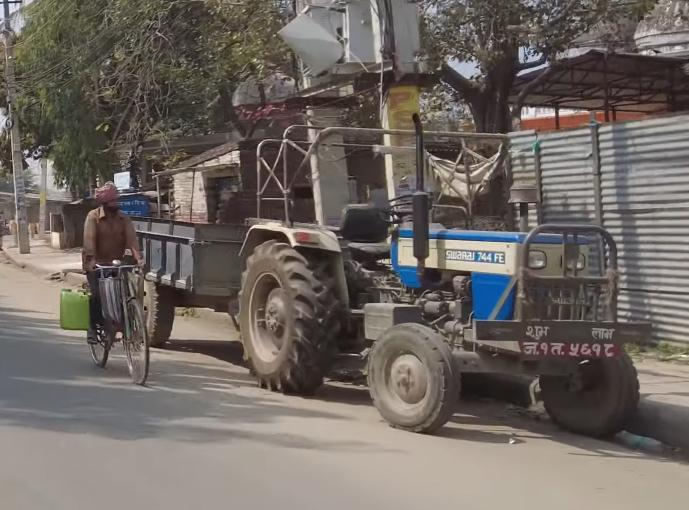tractor: (229, 115, 641, 450)
